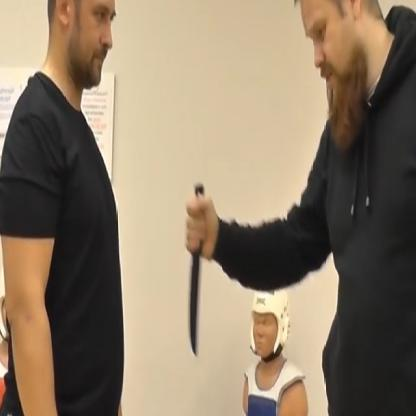knife: (178, 174, 210, 363)
